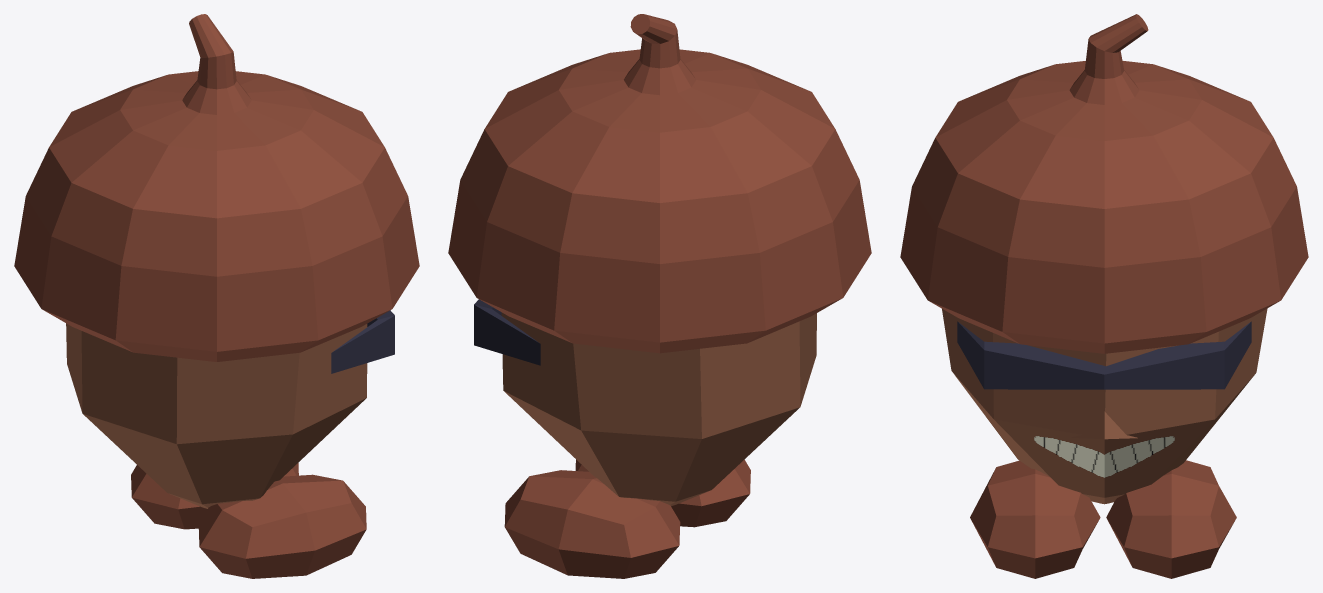
File: acorn.glb
3 renders of one model, left to right at view 1: azimuth 30°, elevation 25°; view 2: azimuth 150°, elevation 25°; view 3: azimuth 270°, elevation 25°, orthographic. The views are drawn at different scales.
Parts seen in each view (by area): view 1: hat, body, rightFoot, leftFoot, sunglasses; view 2: hat, body, leftFoot, rightFoot, sunglasses; view 3: hat, body, sunglasses, rightFoot, leftFoot, Cone.
Boxes of the visible parts, <box> form: hat: <box>14,14,419,361</box>; body: <box>66,323,367,508</box>; rightFoot: <box>198,474,366,578</box>; leftFoot: <box>131,463,298,529</box>; sunglasses: <box>331,310,394,373</box>; hat: <box>448,14,871,353</box>; body: <box>501,312,816,506</box>; leftFoot: <box>504,470,680,578</box>; rightFoot: <box>575,459,750,527</box>; sunglasses: <box>474,299,540,365</box>; hat: <box>900,14,1308,353</box>; body: <box>942,308,1267,504</box>; sunglasses: <box>957,321,1251,389</box>; rightFoot: <box>970,460,1100,578</box>; leftFoot: <box>1106,460,1236,578</box>; Cone: <box>1071,411,1137,439</box>.
Size of the model in its own units: 1.5 by 2.15 by 1.5.
4 materials, 1 textured.
